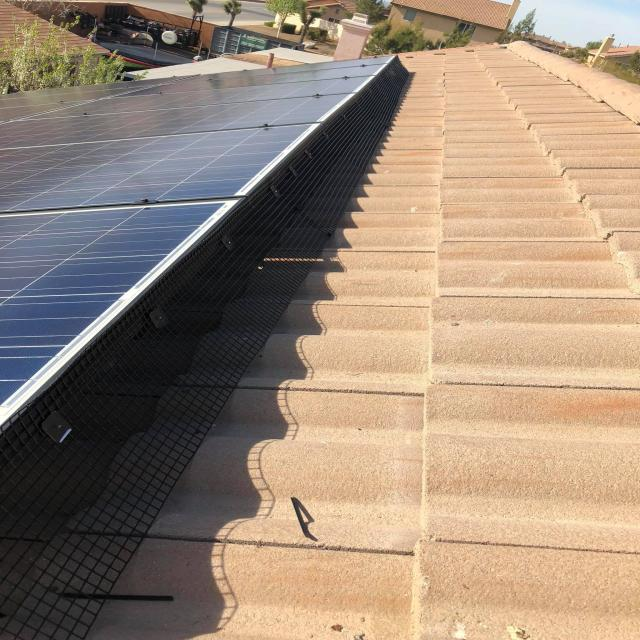clean-solar-panel: (2, 58, 392, 345)
